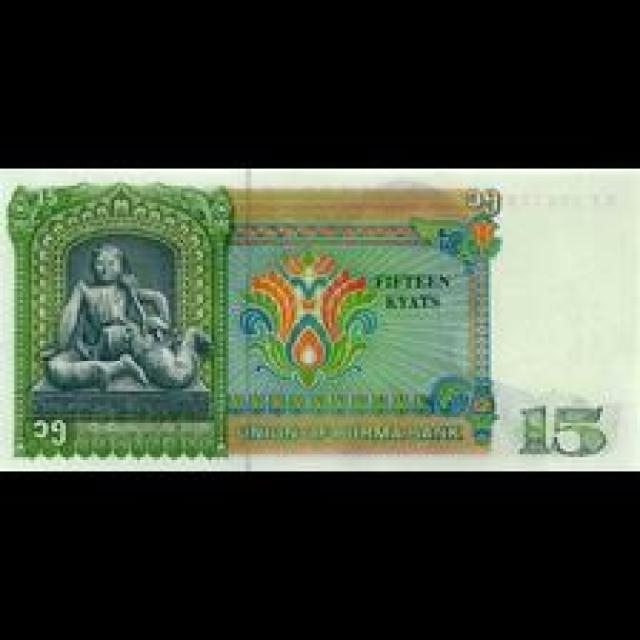banknote: (8, 176, 637, 474)
